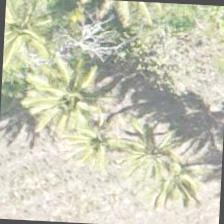Kelapa_Sawit: (127, 126, 222, 221), (51, 91, 146, 186), (104, 100, 198, 196), (23, 44, 118, 138), (2, 0, 69, 73)
